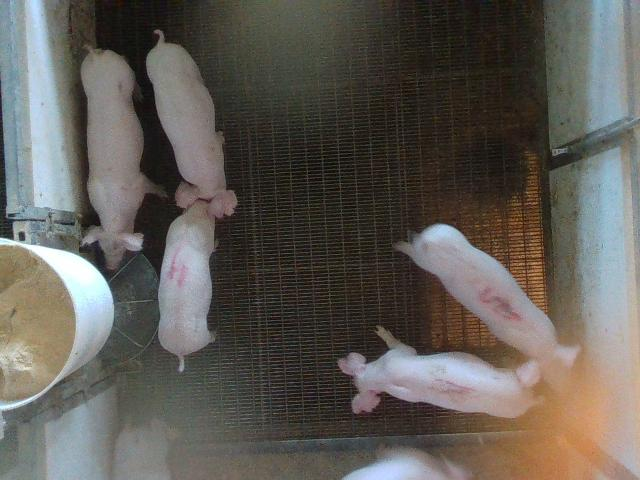pig-1: (339, 326, 535, 418)
pig-3: (395, 224, 580, 389)
pig-4: (159, 182, 236, 371)
